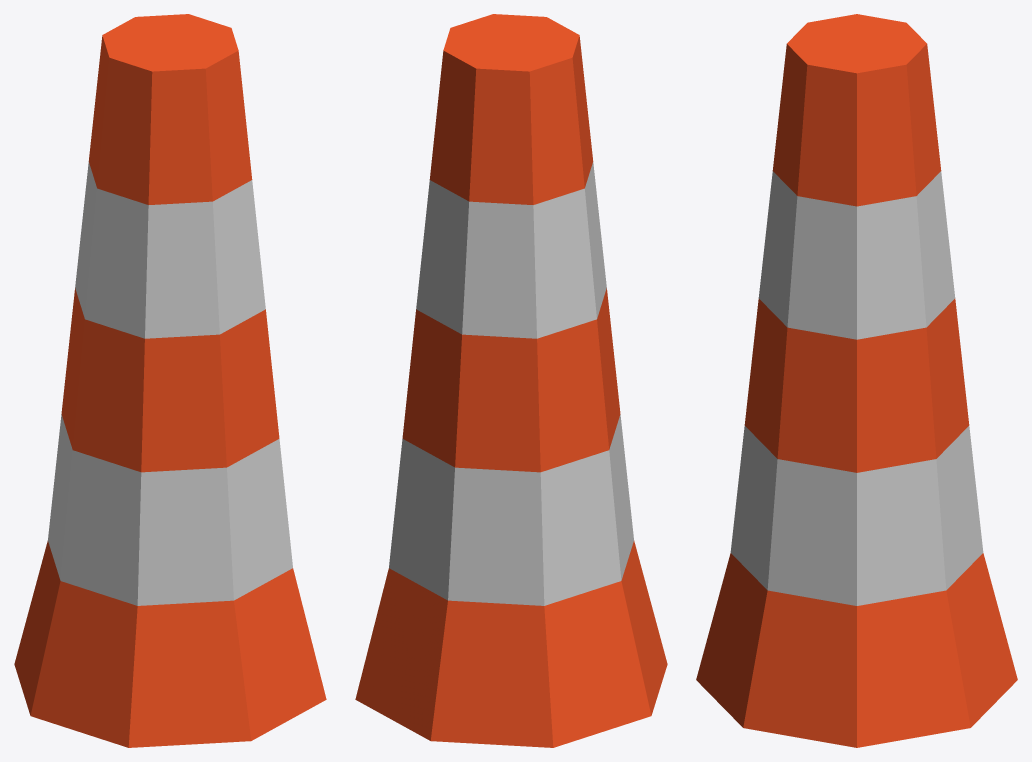
File: Traffic cone.fbx
The picture shows the model from 3 angles, left to right: view 1: azimuth 30°, elevation 25°; view 2: azimuth 150°, elevation 25°; view 3: azimuth 270°, elevation 25°; orthographic projection.
Visible parts, largest first — view 1: Traffic cone; view 2: Traffic cone; view 3: Traffic cone.
Part boxes in pixels (x1,y1,x2,y2): Traffic cone: (14,14,326,747); Traffic cone: (355,14,667,747); Traffic cone: (696,14,1017,747).
Bounding box in the file's own units: 0.4584 × 1 × 0.4584.
